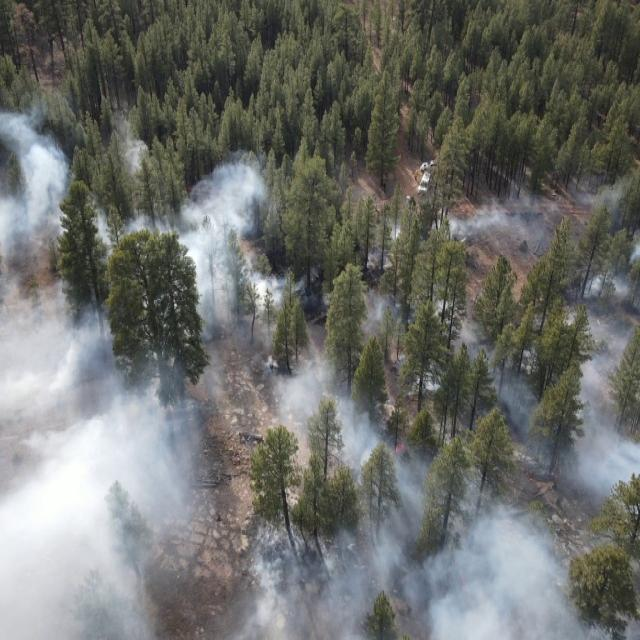fire: (384, 437, 412, 468)
smoke: (0, 102, 261, 640), (261, 531, 638, 640), (564, 258, 640, 530), (362, 442, 566, 530), (427, 175, 630, 261), (427, 298, 544, 442), (270, 362, 384, 464), (258, 267, 402, 335), (364, 212, 406, 268), (630, 226, 640, 260)
